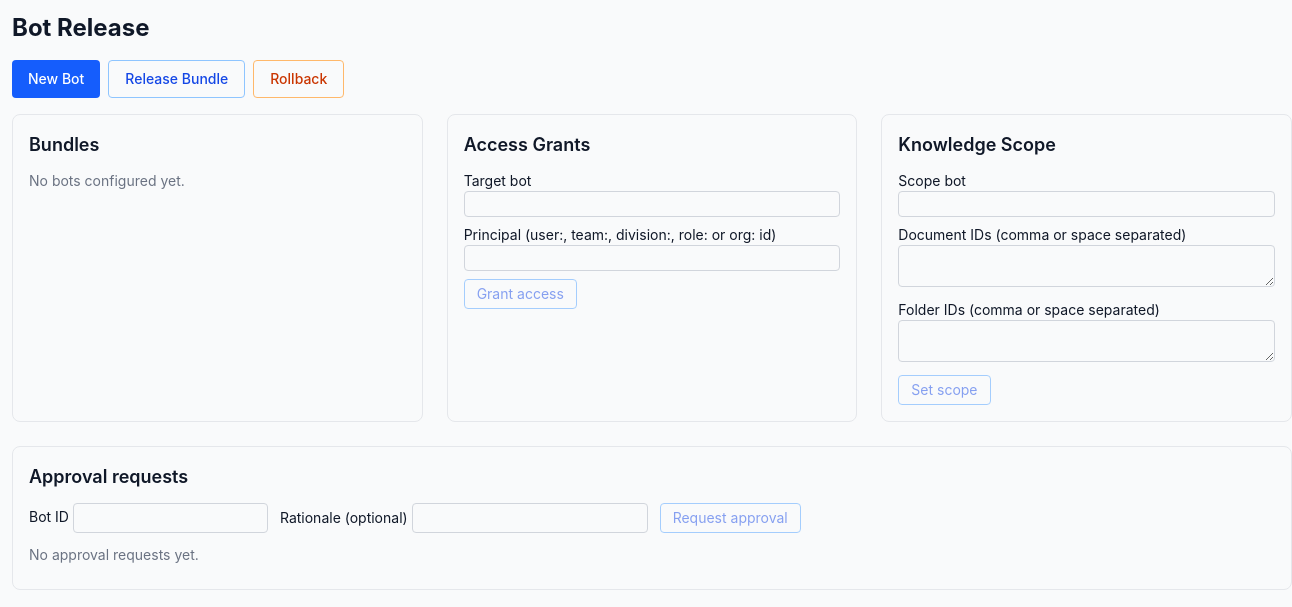
BotReleaseScreen › grants a principal access to a bot with level user
The width and height of the screenshot is (1292, 607).
expect the text "No approval requests yet." is shown: met, box x1=29 y1=546 x2=199 y2=563
Step 1. Type "3f2c8a52-1b7e-4c1d-9a55-0d2f6a9b7c11" into the field labelled "Target bot" → (652, 204), box x1=464 y1=191 x2=840 y2=217
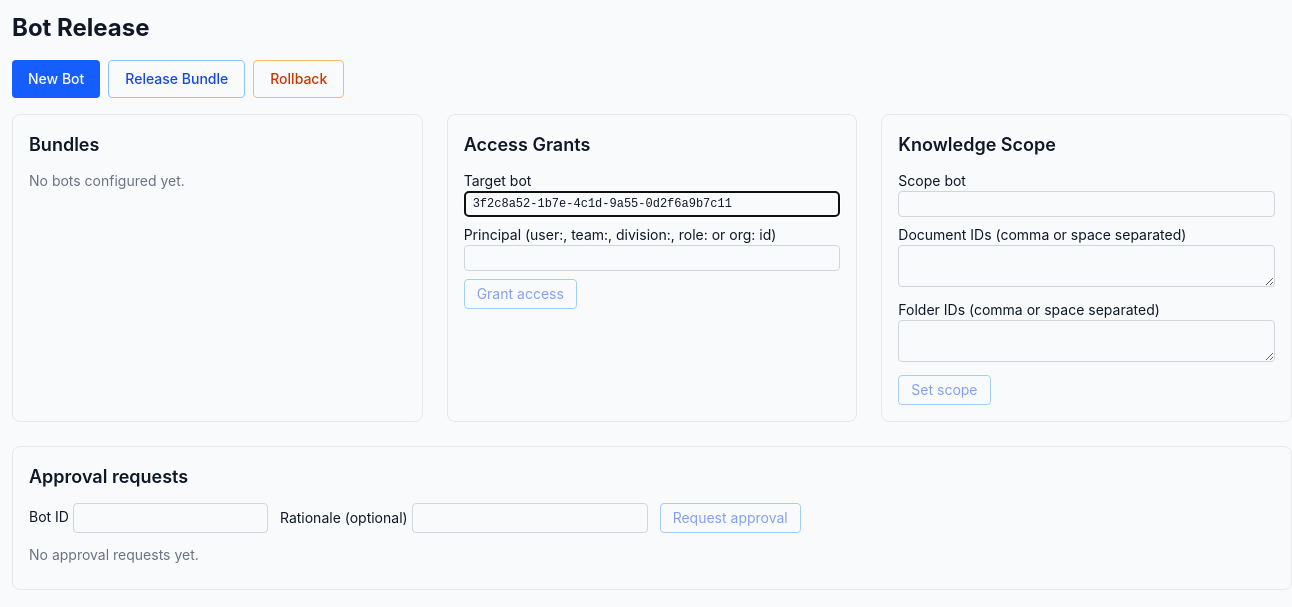
Step 2. Type " team:t1 " into the field labelled "Principal (user:, team:, division:, role: or org: id)" → (652, 258), box x1=464 y1=245 x2=840 y2=271
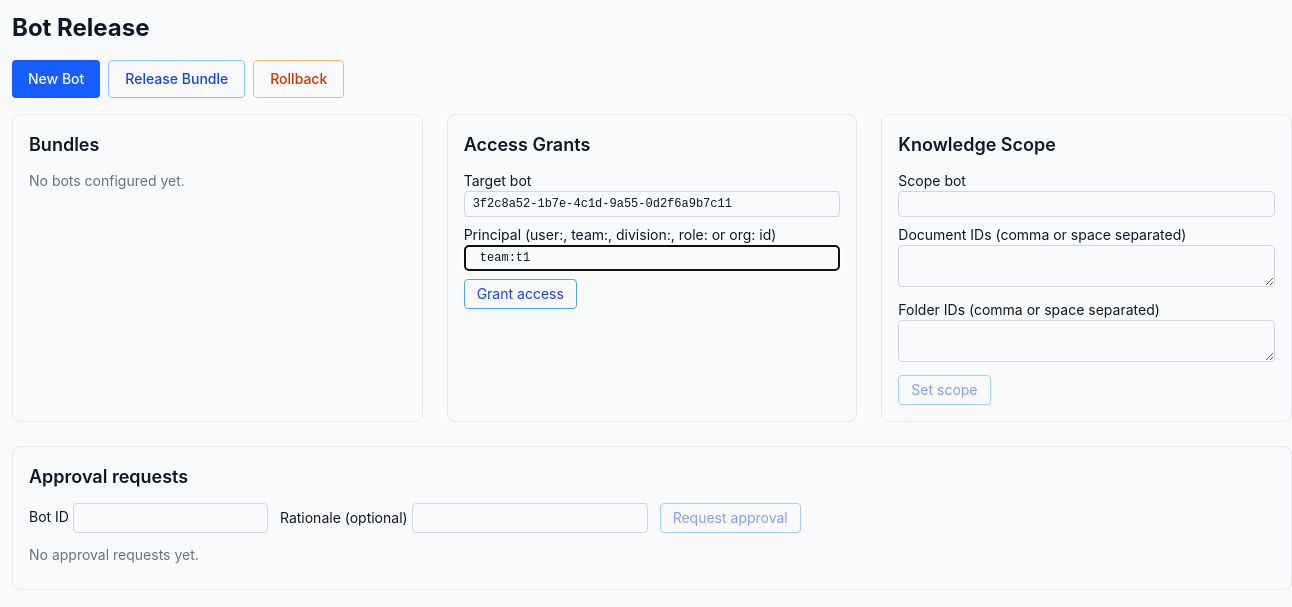
Step 3. Click the button "Grant access" → (520, 294), box x1=464 y1=279 x2=577 y2=309
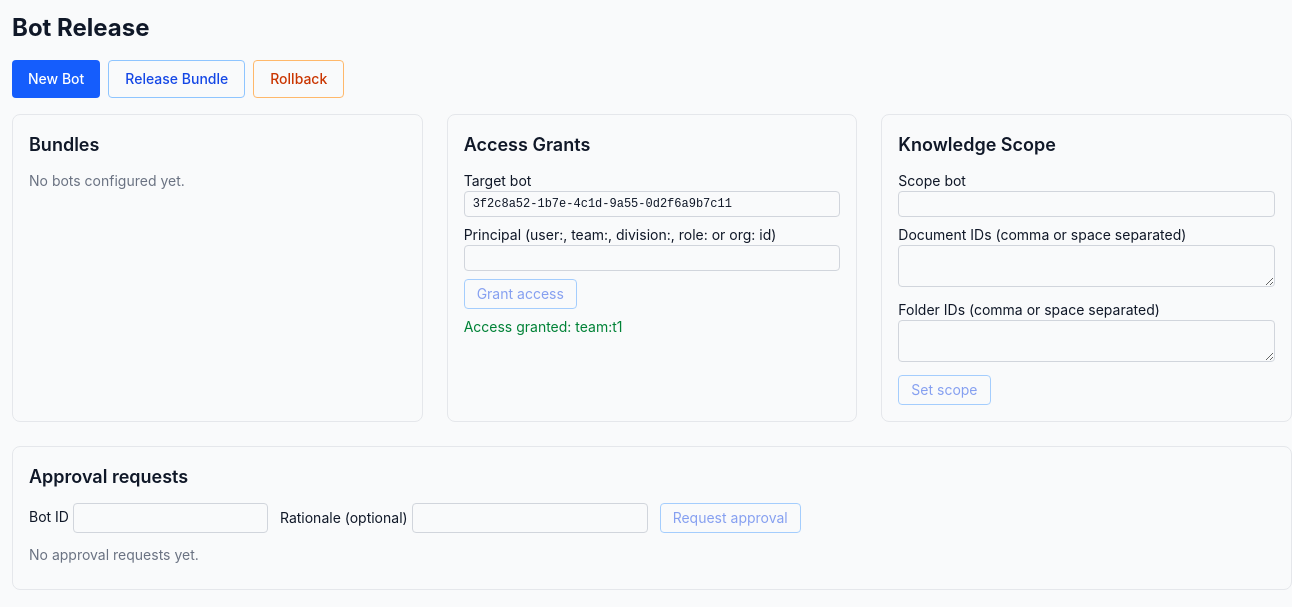
expect the text "Access granted: team:t1" is shown: met, box x1=464 y1=318 x2=623 y2=335
